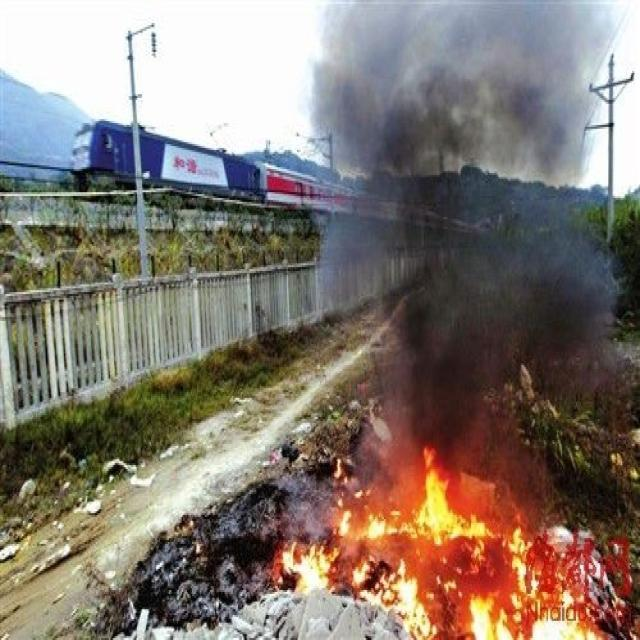Fire: (274, 444, 605, 640)
Smoke: (278, 1, 628, 442)
